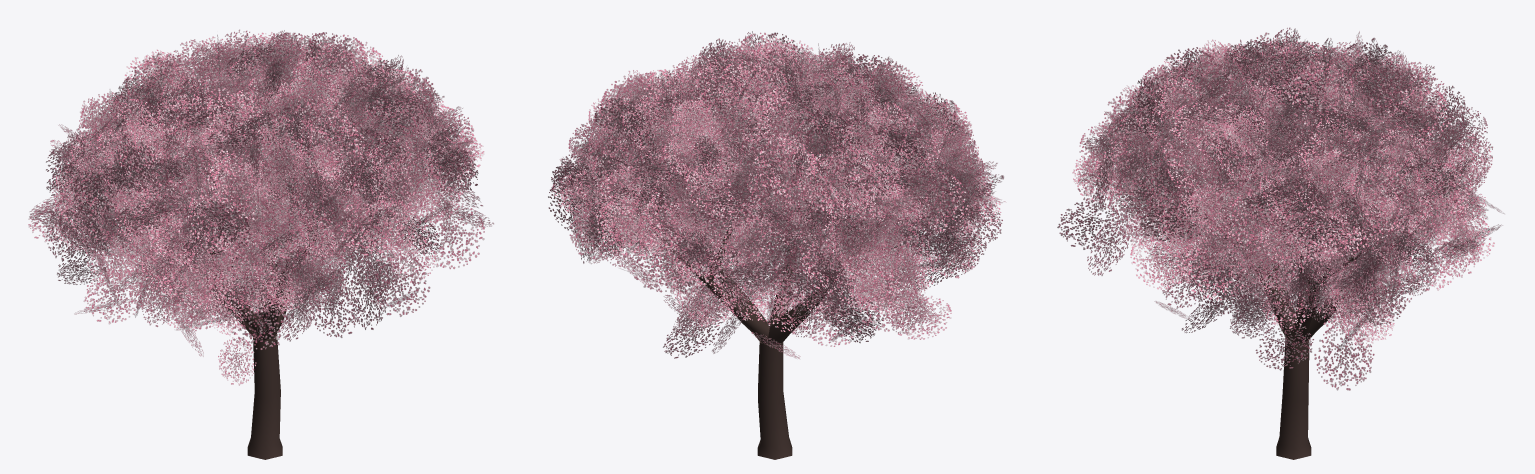
File: tree_sakura.glb
3 views of the same model, side by side, from view 1: azimuth 30°, elevation 25°; view 2: azimuth 150°, elevation 25°; view 3: azimuth 270°, elevation 25° (orthographic).
Visible parts, largest first — view 1: leaves, trunk; view 2: leaves, trunk; view 3: leaves, trunk.
Boxes of the visible parts, <box> form: leaves: <box>28,29,493,385</box>; trunk: <box>86,144,354,459</box>; leaves: <box>548,31,1005,358</box>; trunk: <box>620,132,900,459</box>; leaves: <box>1057,27,1504,390</box>; trunk: <box>1183,120,1415,459</box>.
Size of the model in its own units: 5.98 by 5.71 by 5.94.
Materials: 2 (1 with a texture image).
